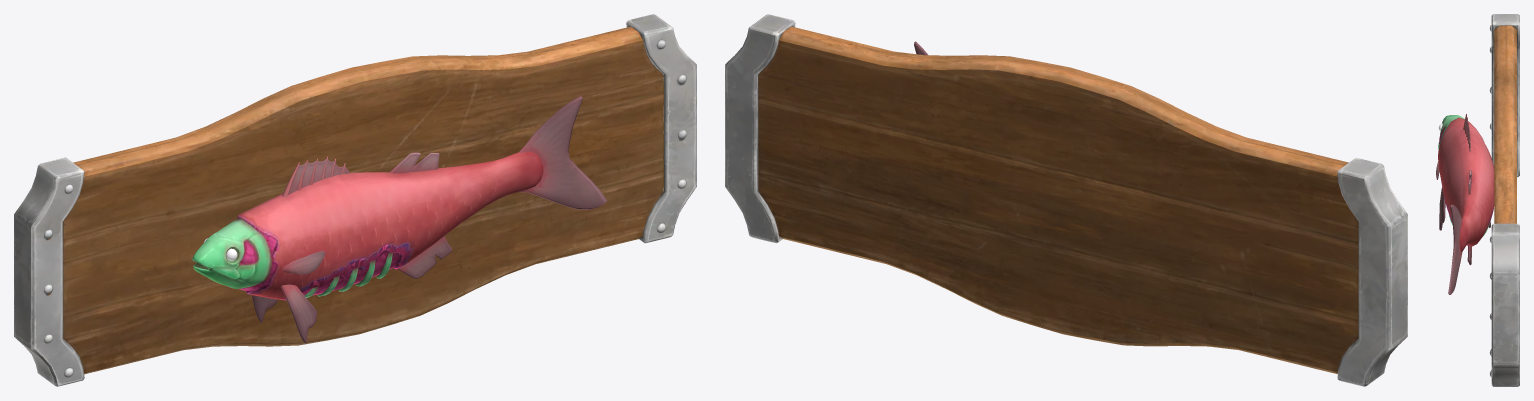
3 views of the same model, side by side, from view 1: azimuth 30°, elevation 25°; view 2: azimuth 150°, elevation 25°; view 3: azimuth 270°, elevation 25° (orthographic). The views are drawn at different scales.
Visible parts, largest first — view 1: SM_Trophy_Plaque_Undead_Bass_01_LOD0; view 2: SM_Trophy_Plaque_Undead_Bass_01_LOD0; view 3: SM_Trophy_Plaque_Undead_Bass_01_LOD0.
Boxes of the visible parts, x1=… form: SM_Trophy_Plaque_Undead_Bass_01_LOD0: x1=14, y1=14, x2=696, y2=386; SM_Trophy_Plaque_Undead_Bass_01_LOD0: x1=725, y1=14, x2=1407, y2=386; SM_Trophy_Plaque_Undead_Bass_01_LOD0: x1=1436, y1=14, x2=1519, y2=386.
Bounding box in the file's own units: 1.48 × 0.5529 × 0.2204.
Materials: 2 (2 with a texture image).
